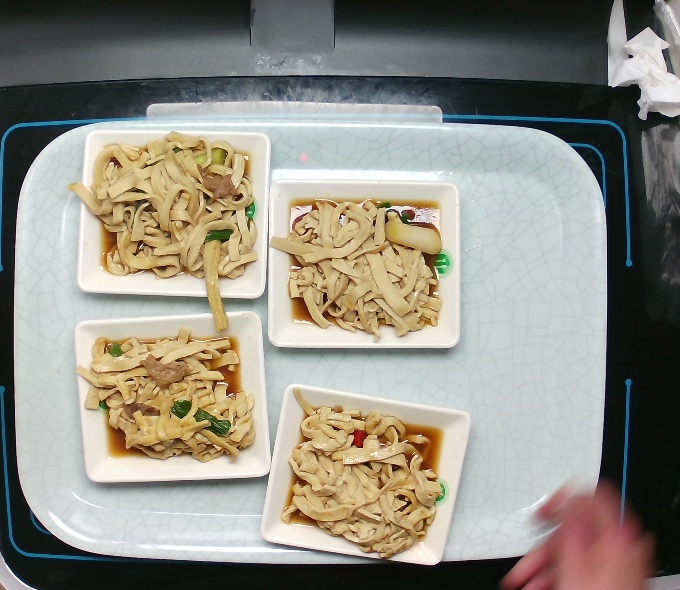wcq-QianZhang: (72, 132, 262, 332), (272, 383, 456, 563), (68, 320, 261, 470), (269, 191, 456, 343)
